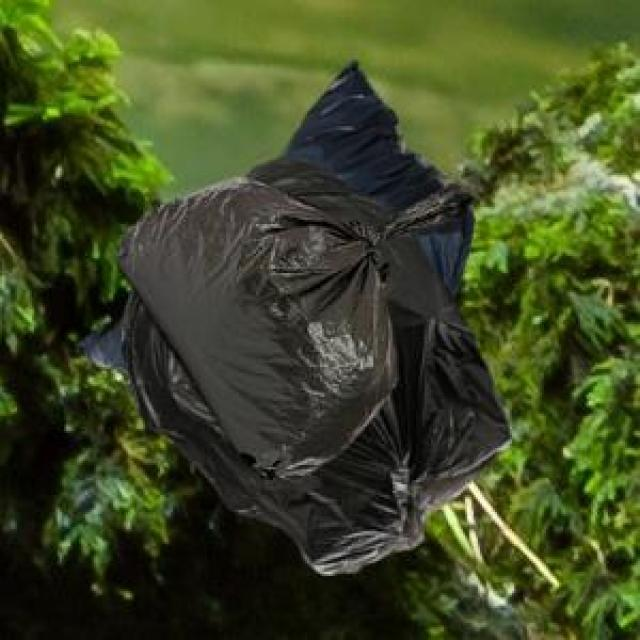waste: (85, 62, 509, 574)
